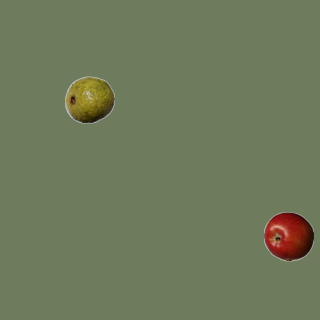Apple Braeburn: (263, 211, 313, 261)
Guava: (64, 74, 114, 124)
